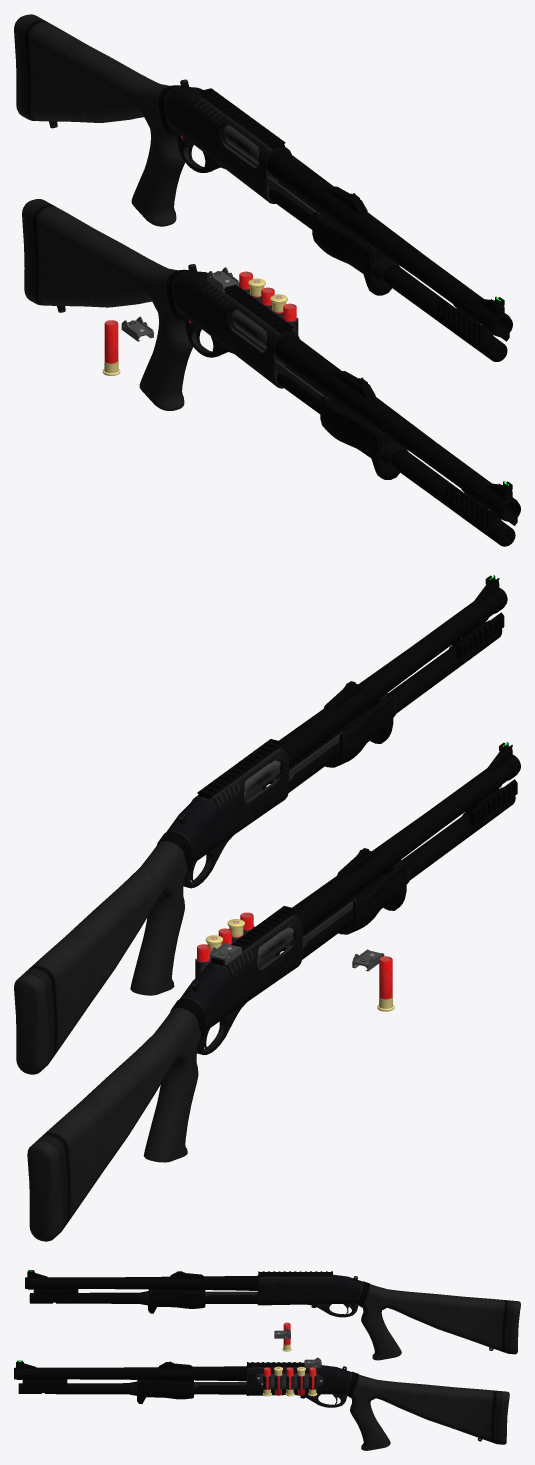
File: shotgun_real.glb
3 views of the same model, one above another, from view 1: azimuth 30°, elevation 25°; view 2: azimuth 150°, elevation 25°; view 3: azimuth 270°, elevation 25° (orthographic). The views are drawn at different scales.
Visible parts, largest first — view 1: Stock_low.006, Stock_low, Barrel_low.008, Barrel_low, TubularMagazine_low.004, TubularMagazine_low, TubularMagazineGrip_low, TubularMagazineGrip_low.004, Rail_low.002, ShotgunShell_low.002, FrontRail_low.002, FrontRail_low (+7 smaller); view 2: Stock_low, Stock_low.006, Barrel_low.008, Barrel_low, TubularMagazine_low, TubularMagazine_low.004, TubularMagazineGrip_low.004, TubularMagazineGrip_low, Rail_low.002, ShotgunShell_low.002, FrontRail_low.002, FrontRail_low (+4 smaller); view 3: Stock_low.006, Stock_low, Barrel_low, Barrel_low.008, TubularMagazine_low, TubularMagazine_low.004, TubularMagazineGrip_low.004, TubularMagazineGrip_low, StockPlate_low.001, ShotgunShell_low.002, ShellSupportOptional_low, FrontRail_low.002 (+9 smaller).
Part boxes in pixels (x1,y1,x2,y2): Stock_low.006: (14,14,291,226); Stock_low: (22,199,299,410); Barrel_low.008: (255,144,512,337); Barrel_low: (263,329,520,521); TubularMagazine_low.004: (269,181,507,361); TubularMagazine_low: (277,366,515,546); TubularMagazineGrip_low: (320,396,399,479); TubularMagazineGrip_low.004: (312,212,391,295); Rail_low.002: (199,88,285,149); ShotgunShell_low.002: (239,271,296,321); FrontRail_low.002: (437,299,509,346); FrontRail_low: (445,483,517,531); Stock_low: (27,914,302,1241); Stock_low.006: (14,747,288,1074); Barrel_low.008: (270,580,507,774); Barrel_low: (283,747,520,941); TubularMagazine_low: (276,787,515,959); TubularMagazine_low.004: (263,620,502,792); TubularMagazineGrip_low.004: (325,693,393,767); TubularMagazineGrip_low: (338,860,406,934); Rail_low.002: (197,739,282,799); ShotgunShell_low.002: (197,912,253,961); FrontRail_low.002: (452,612,504,659); FrontRail_low: (465,779,517,826); Stock_low.006: (257,1274,520,1360); Stock_low: (246,1365,509,1450); Barrel_low: (14,1363,246,1381); Barrel_low.008: (25,1272,257,1290); TubularMagazine_low: (18,1383,246,1394); TubularMagazine_low.004: (29,1292,257,1303); TubularMagazineGrip_low.004: (148,1289,205,1313); TubularMagazineGrip_low: (137,1379,193,1403); StockPlate_low.001: (263,1276,336,1298); ShotgunShell_low.002: (262,1366,317,1396); ShellSupportOptional_low: (255,1373,323,1389); FrontRail_low.002: (33,1289,78,1298).
Size of the model in its own units: 26.81 by 50.66 by 130.
4 materials, 4 textured.
